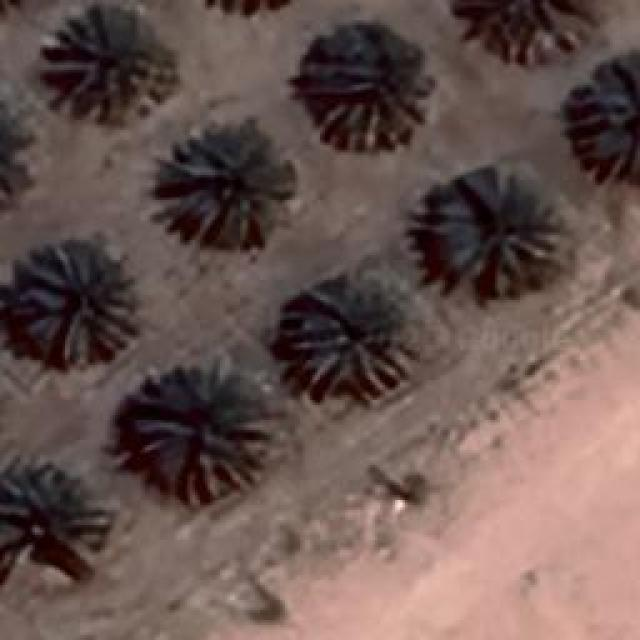PalmTree: (122, 370, 268, 500), (300, 25, 435, 150), (165, 125, 295, 250), (40, 2, 175, 122), (427, 168, 555, 292), (15, 240, 135, 365), (282, 282, 410, 396), (0, 457, 105, 565), (444, 0, 611, 65), (574, 50, 638, 180)
